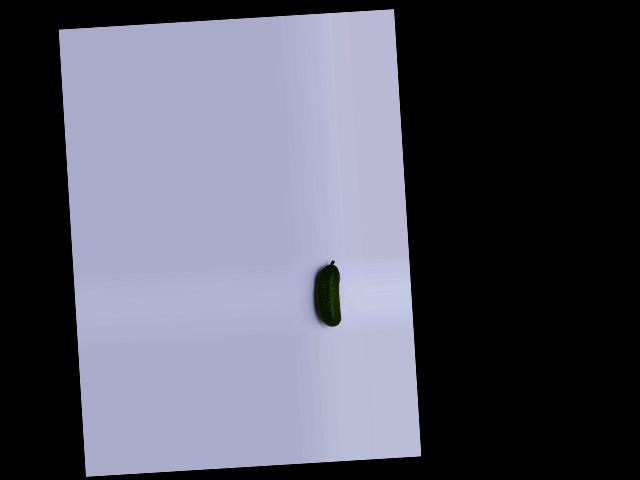cucumber: (313, 260, 342, 327)
